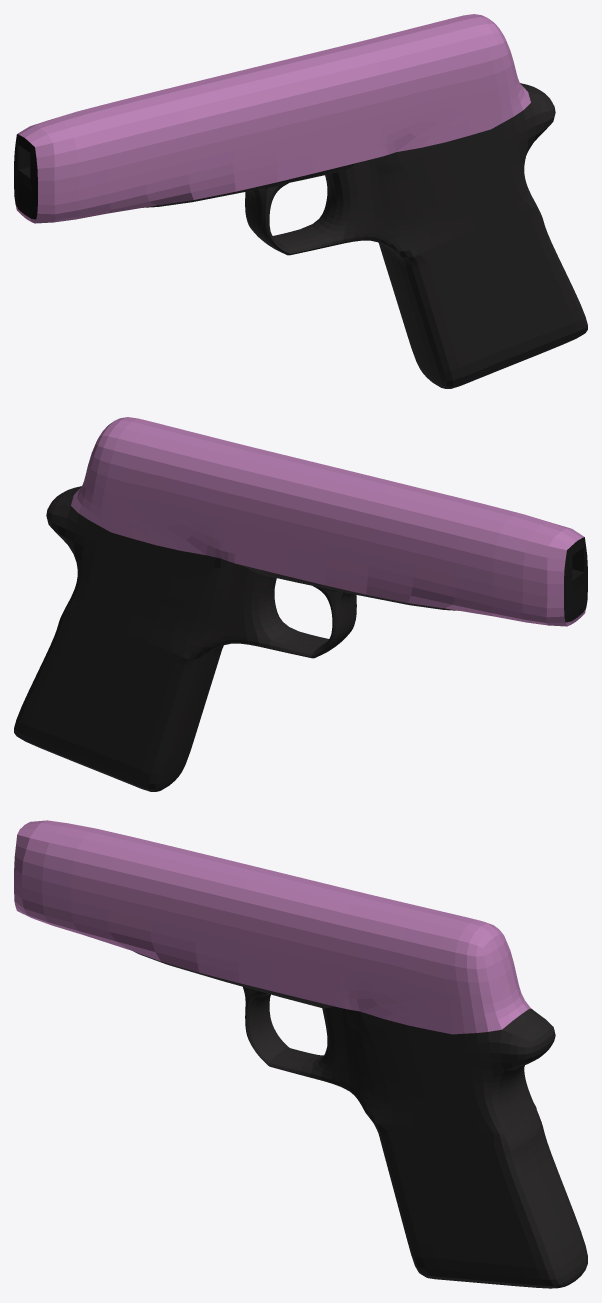
File: pistoletto 1.fbx
3 renders of one model, top to bottom at view 1: azimuth 30°, elevation 25°; view 2: azimuth 150°, elevation 25°; view 3: azimuth 330°, elevation 25°, orthographic.
Visible parts, largest first — view 1: Куб.002; view 2: Куб.002; view 3: Куб.002.
Boxes of the visible parts, <box> form: Куб.002: <box>14,14,587,388</box>; Куб.002: <box>14,417,587,791</box>; Куб.002: <box>14,820,587,1288</box>.
Bounding box in the file's own units: 428 × 265 × 51.39.
